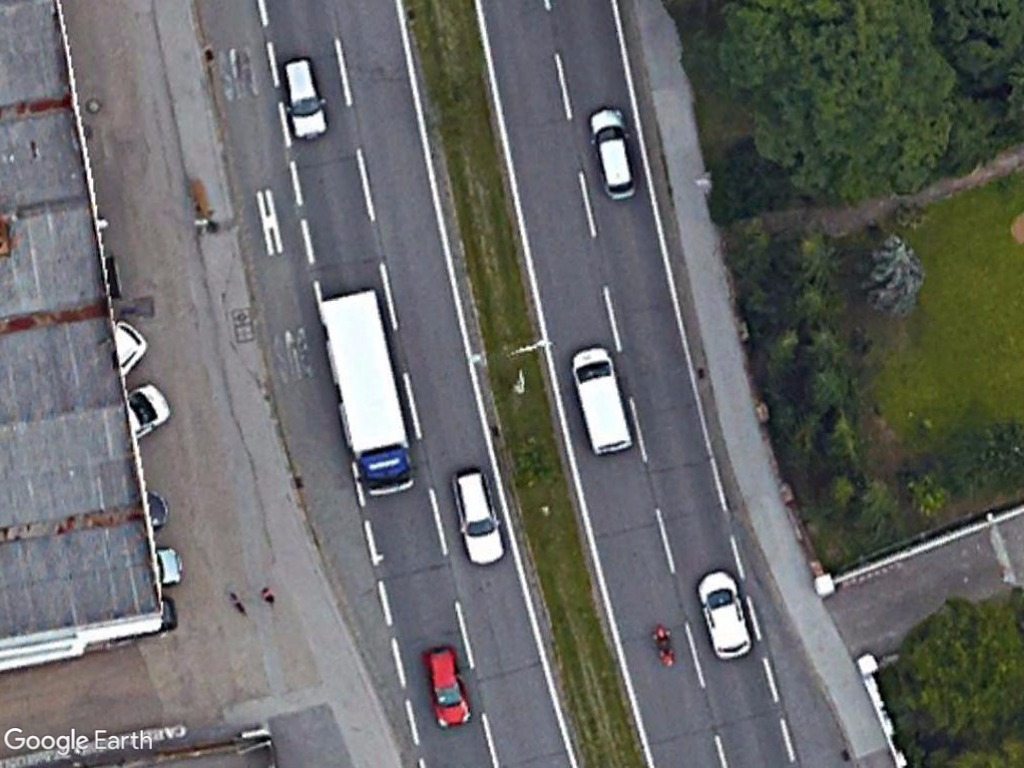car: (446, 464, 511, 572), (582, 102, 644, 205), (693, 565, 756, 665), (419, 640, 479, 734), (274, 51, 331, 146)
truck: (315, 289, 414, 494)
van: (566, 343, 636, 459)
